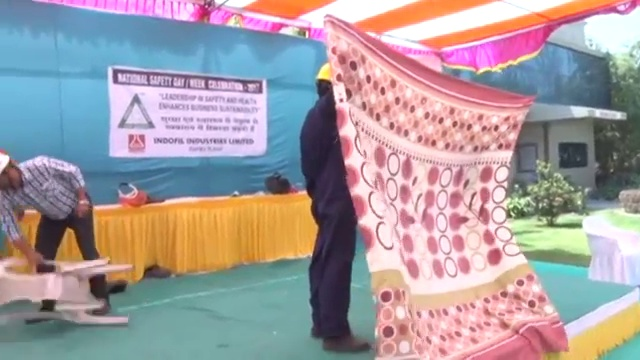helmet: (314, 61, 335, 82), (1, 151, 11, 175)
helmet_on: (311, 60, 334, 102), (1, 150, 24, 188)
person: (295, 59, 372, 352), (1, 150, 110, 321)
